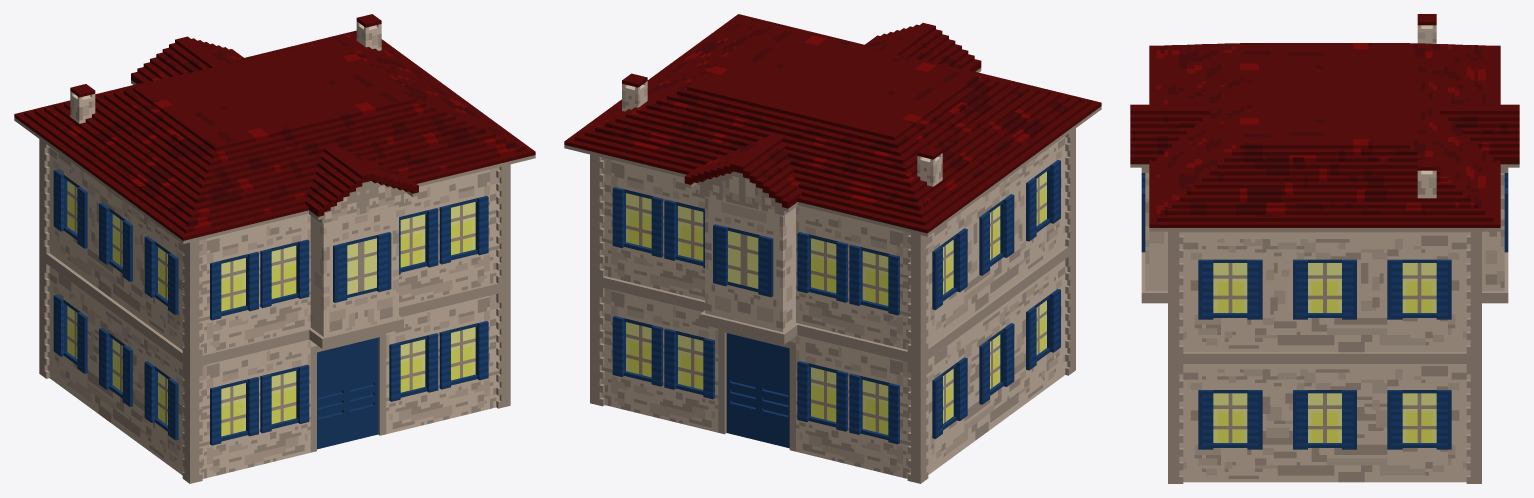
3 views of the same model, side by side, from view 1: azimuth 30°, elevation 25°; view 2: azimuth 150°, elevation 25°; view 3: azimuth 270°, elevation 25° (orthographic). The views are drawn at different scales.
Visible parts, largest first — view 1: VOX; view 2: VOX; view 3: VOX.
Boxes of the visible parts, x1,y1,x2,y2 form: VOX: (14,14,535,483); VOX: (564,14,1101,483); VOX: (1130,14,1519,483).
Size of the model in its own units: 0.112 by 0.091 by 0.103.
